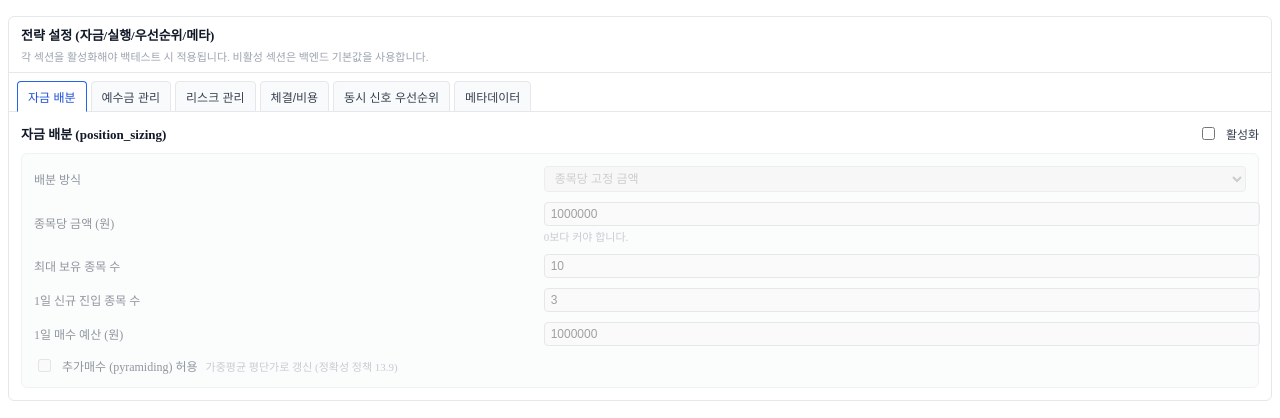
Test: PriorityForm + MetadataForm — random_seed 정책 › priority.random 선택 시 시드 안내 메시지
This screenshot has width=1280, height=418.
Click the tab "동시 신호 우선순위". click: click(392, 96)
box: [333,81,450,112]
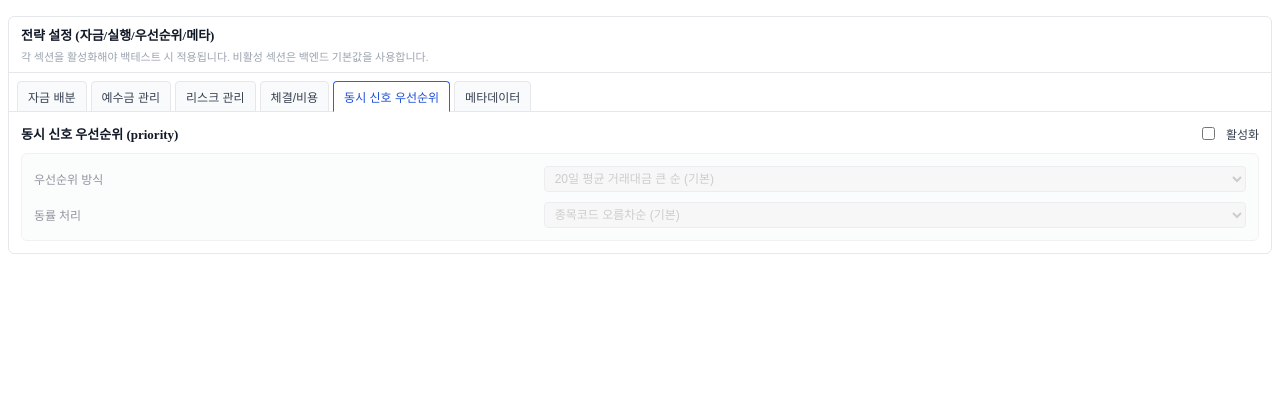
Click the checkbox named "동시 신호 우선순위 (priority) 활성화". click: click(1208, 134)
box: [1202,127,1215,140]
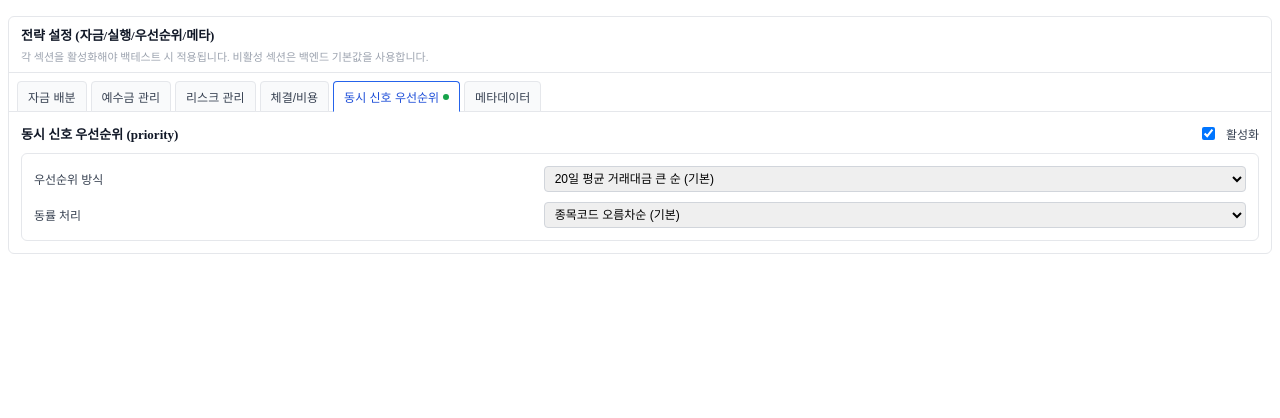
Select "무작위 (random_seed 필요)" in the dropdown labelled "우선순위 방식". click: (895, 179)
box: [544,166,1246,192]
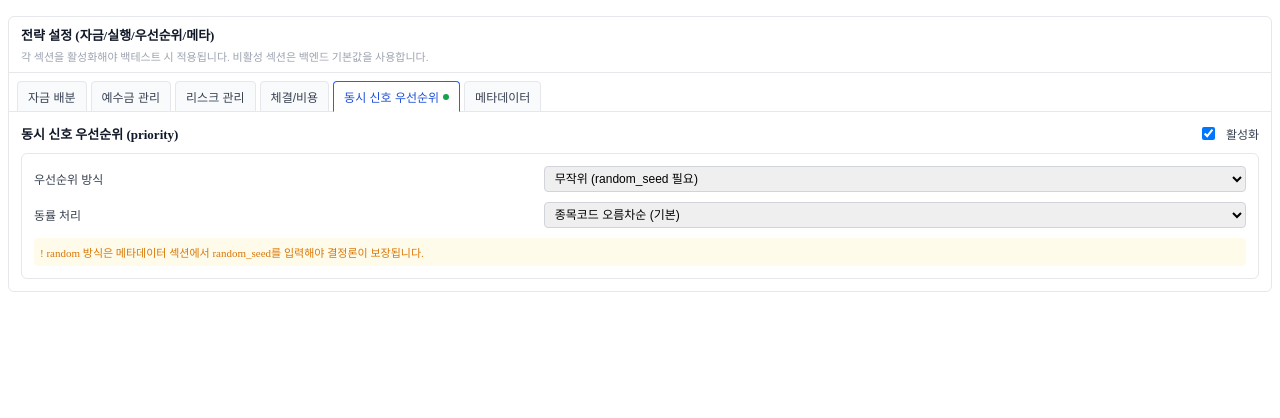
Result: the text "! random 방식은 메타데이터 섹션에서 random_seed를 입력해야 결정론이 보장됩니다." is shown at [34,238,1246,266]
